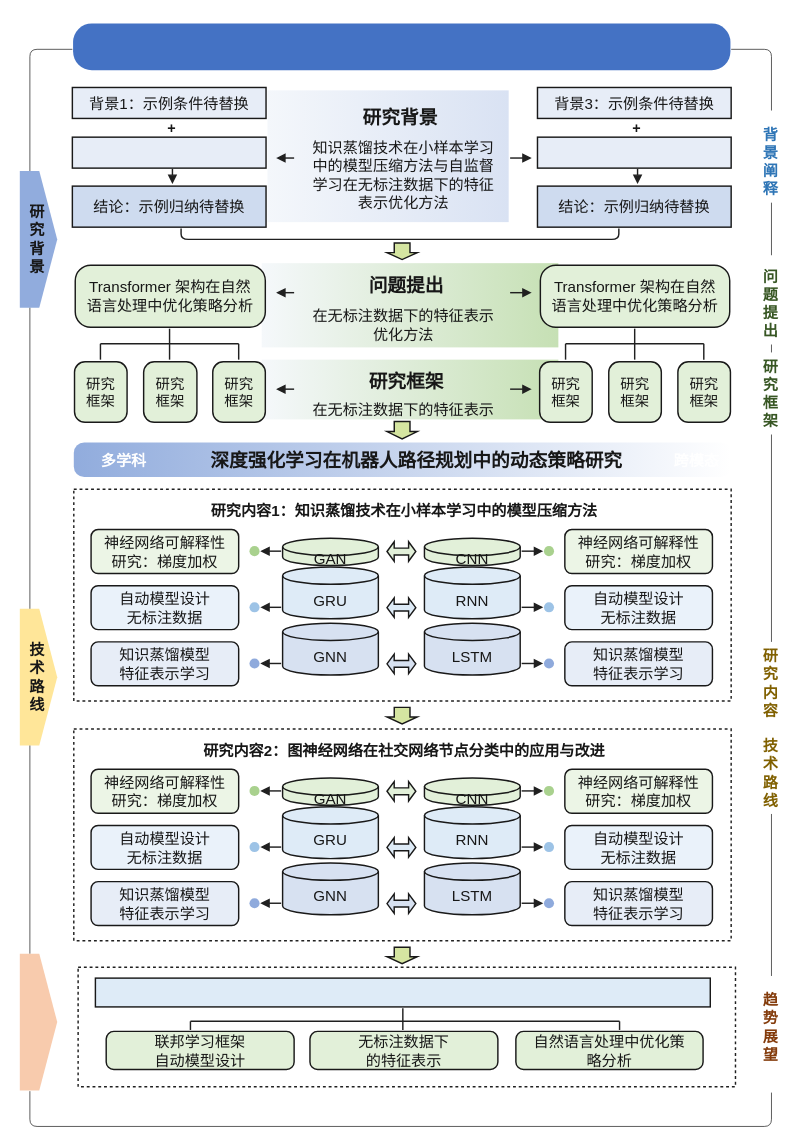
Some shapes in this 798 by 1148 pixel diagram are drawn without their labels. Here are the shapes that lost their labels. From the top down, the centre of each, then its label:
[401,46]: 基于深度卷积神经网络的图像语义分割方法研究
[168,152]: 背景2：示例条件待替换
[634,152]: 背景4：示例条件待替换
[402,992]: 结论与趋势展望
[38,1021]: 结 论 展 望
